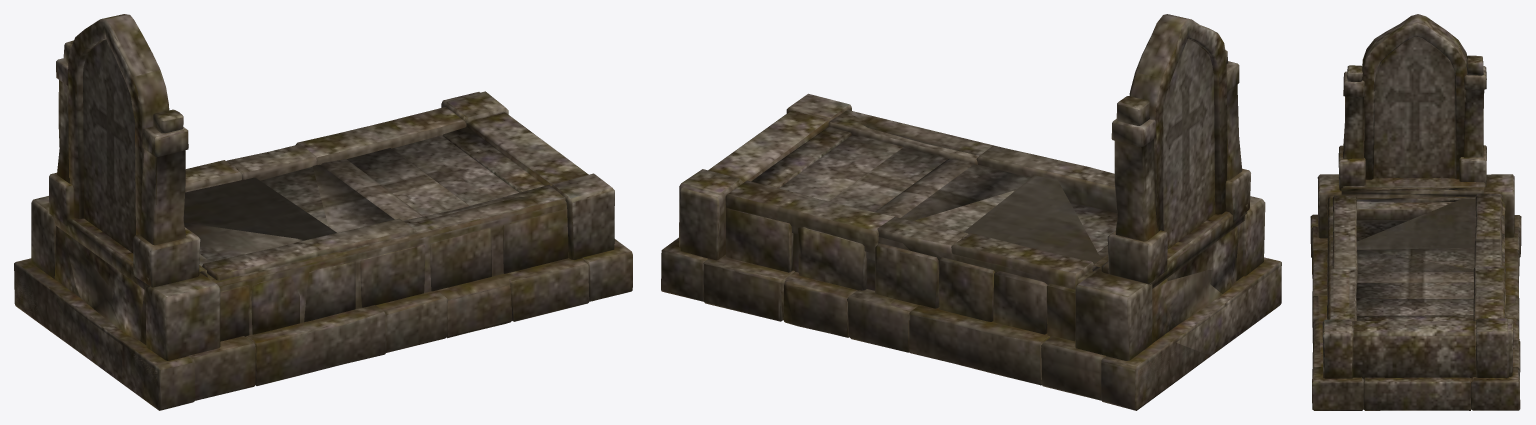
Rendered from h_grave_B.glb.
3 views of the same model, side by side, from view 1: azimuth 30°, elevation 25°; view 2: azimuth 150°, elevation 25°; view 3: azimuth 270°, elevation 25° (orthographic). The views are drawn at different scales.
Visible parts, largest first — view 1: h_grave_B; view 2: h_grave_B; view 3: h_grave_B.
Boxes of the visible parts, x1,y1,x2,y2 form: h_grave_B: [14, 14, 632, 410]; h_grave_B: [661, 14, 1281, 410]; h_grave_B: [1310, 14, 1521, 410].
Size of the model in its own units: 1.87 by 1.26 by 0.9999.
Materials: 1 (1 with a texture image).
